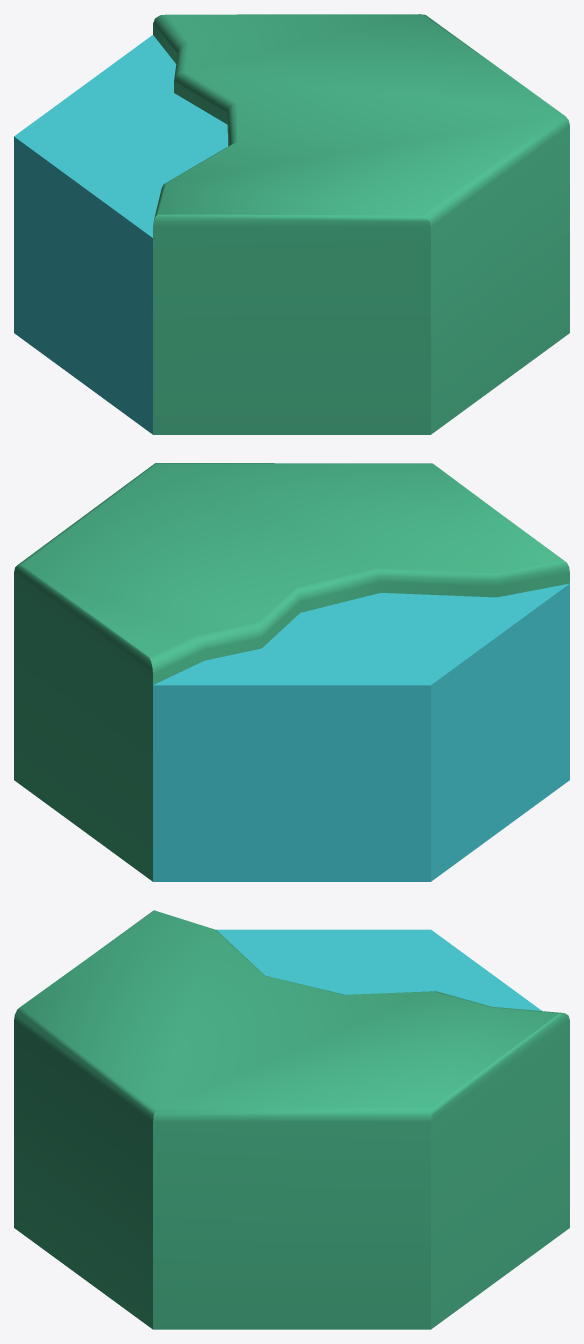
The model's file is hex_forest_waterD.glb.
3 views of the same model, one above another, from view 1: azimuth 30°, elevation 25°; view 2: azimuth 150°, elevation 25°; view 3: azimuth 270°, elevation 25° (orthographic).
Visible parts, largest first — view 1: hex_forest_waterD; view 2: hex_forest_waterD; view 3: hex_forest_waterD.
Part boxes in pixels (x1,y1,x2,y2): hex_forest_waterD: (14, 14, 569, 434); hex_forest_waterD: (14, 463, 569, 881); hex_forest_waterD: (14, 910, 569, 1329).
Bounding box in the file's own units: 2 × 1 × 2.31.
